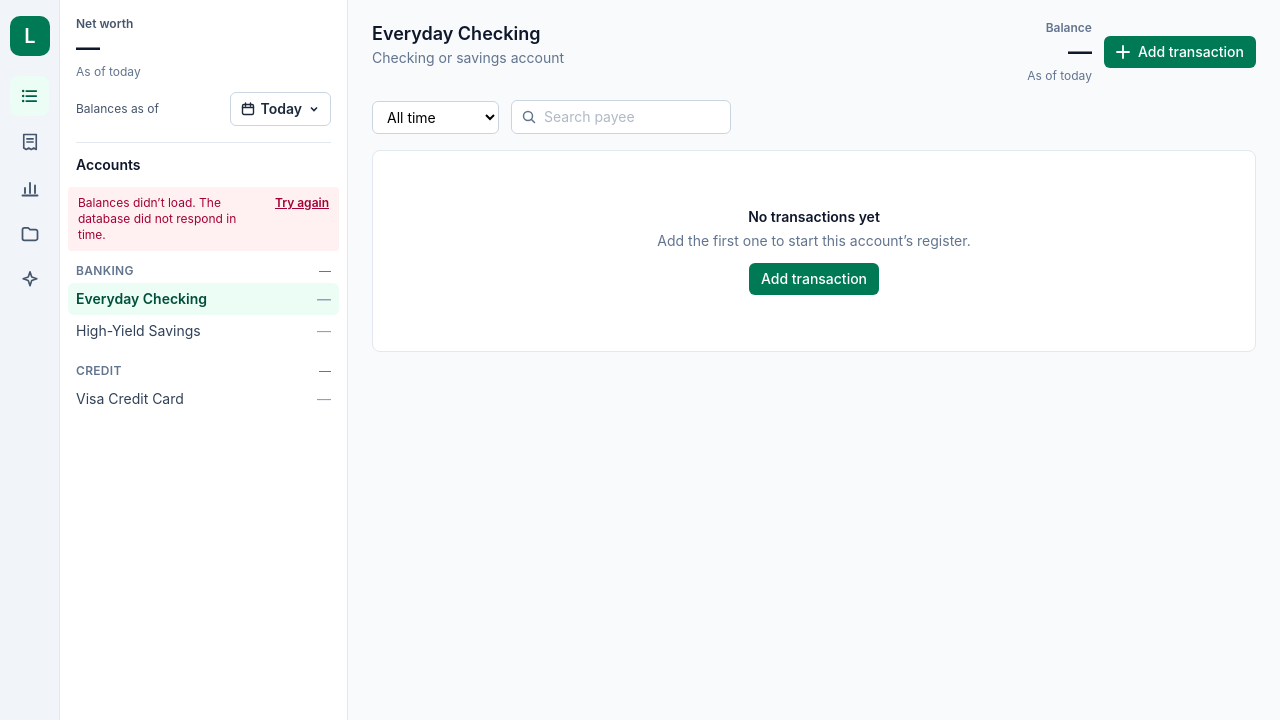
Test: balance request states › falls back to a dash with one retryable message carrying the problem detail
Check: the message shows "The database did not respond in time.", box [78,195,236,242]
Check: the number of messages is 1, box [68,187,339,251]
What coordinates should you click on to do the following:
click the button "Try again"
I would click on:
 (302, 203)
Its box is [275,195,329,211].
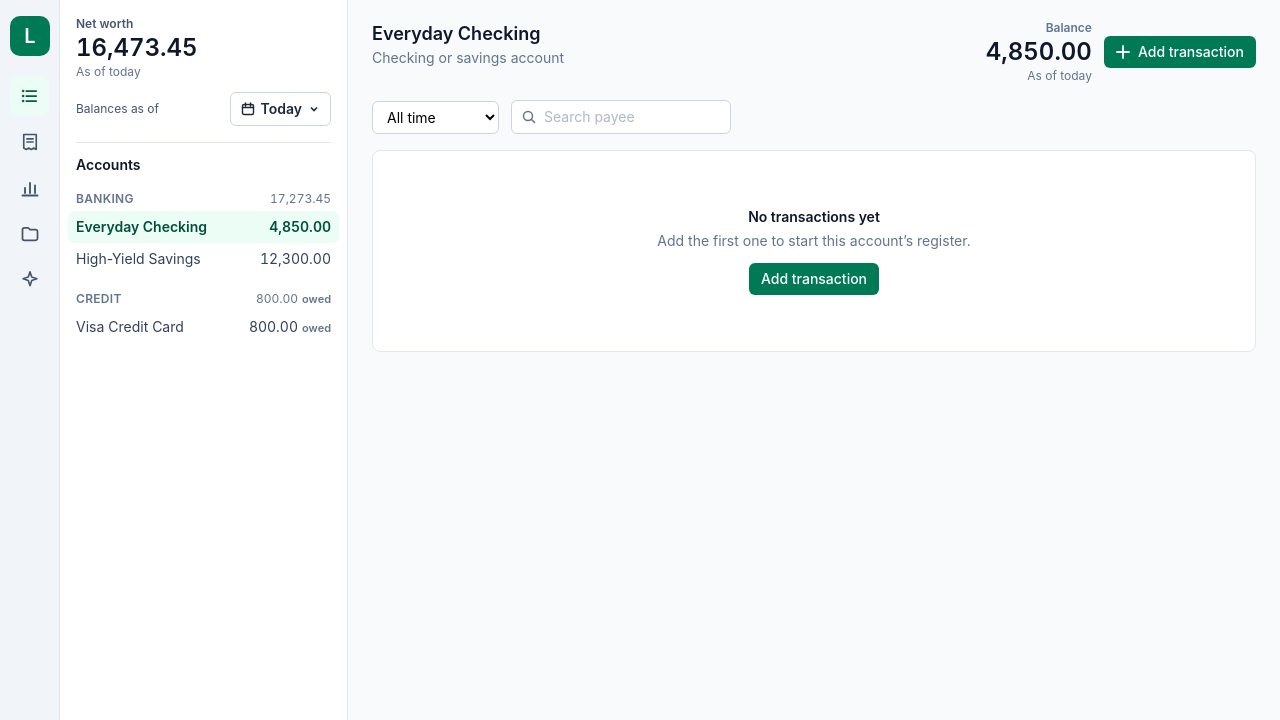
Check: the message "Balances didn’t load. The database did not respond in time. Try again" is gone
